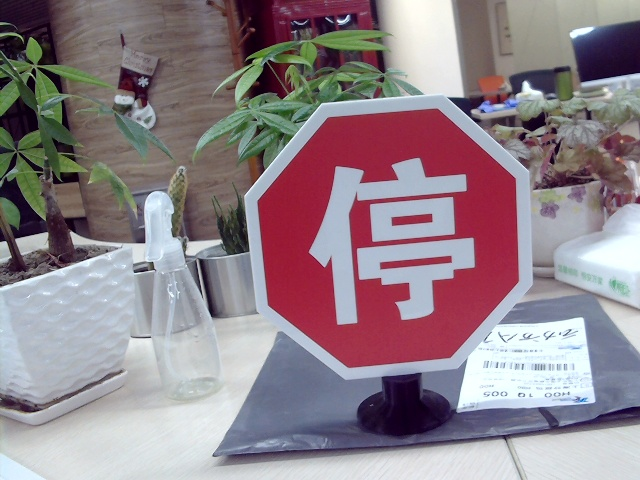stop: (308, 157, 479, 323)
